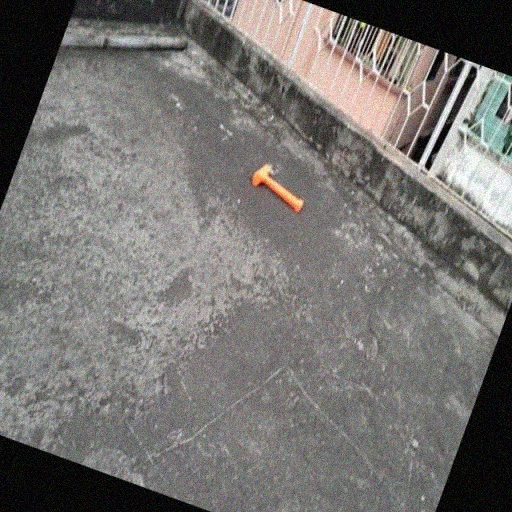mallet: (246, 162, 312, 214)
